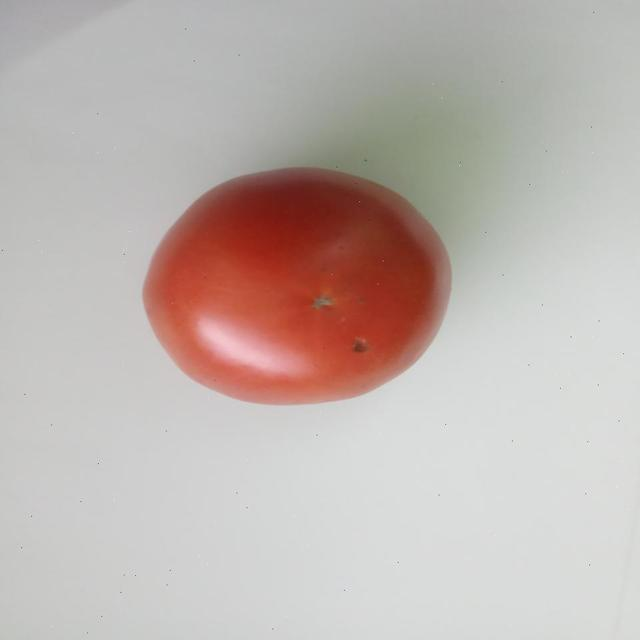Healthy Fruit: (88, 104, 314, 280)
